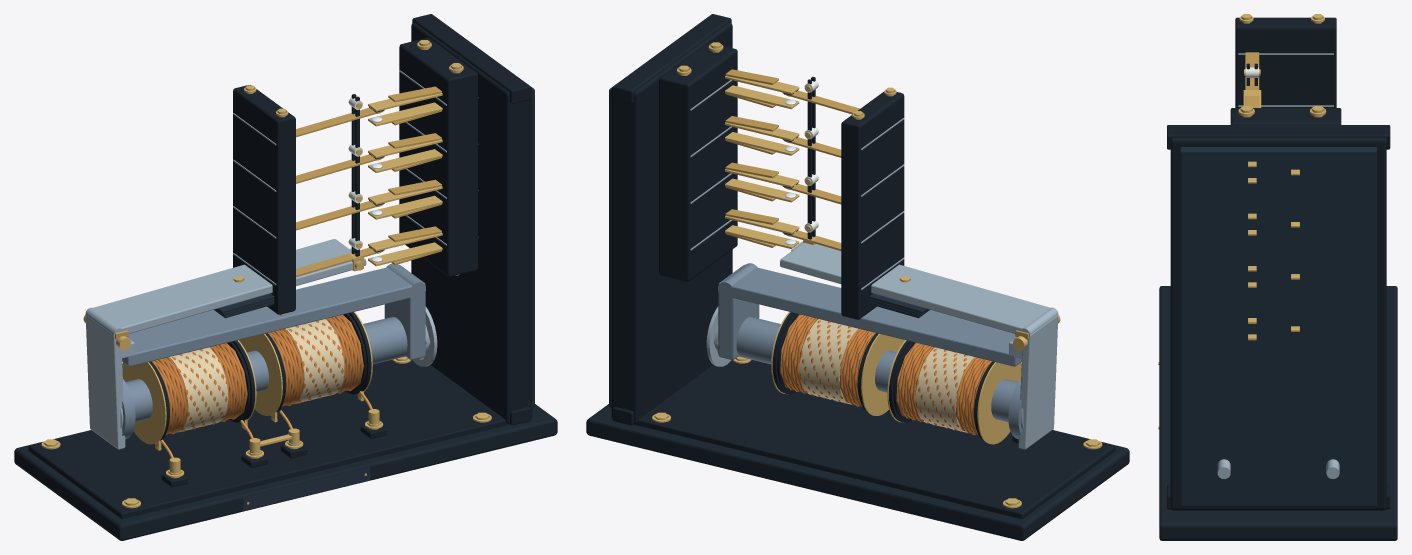
File: JSBXC-850-picked.glb
3 views of the same model, side by side, from view 1: azimuth 30°, elevation 25°; view 2: azimuth 150°, elevation 25°; view 3: azimuth 270°, elevation 25° (orthographic). The views are drawn at different scales.
Visible parts, largest first — view 1: base (×6), contactBlock (×2), coil (×6), armature (×2), yoke (×2), core, back (×4), common (×4); view 2: base (×5), contactBlock (×2), coil (×6), armature (×2), yoke (×2), core, back (×4); view 3: base (×4), contactBlock (×2), common.
Part boxes in pixels (x1,y1,x2,y2): base (×6): [14, 14, 557, 540]; contactBlock (×2): [233, 38, 477, 314]; coil (×6): [122, 314, 363, 444]; armature (×2): [85, 239, 352, 449]; yoke (×2): [122, 264, 425, 366]; core: [125, 317, 407, 422]; back (×4): [368, 102, 442, 266]; common (×4): [296, 107, 383, 276]; base (×5): [586, 14, 1129, 540]; contactBlock (×2): [659, 42, 904, 319]; coil (×6): [780, 314, 1021, 444]; armature (×2): [780, 242, 1058, 449]; yoke (×2): [718, 264, 1021, 366]; core: [736, 317, 1018, 422]; back (×4): [725, 85, 799, 248]; base (×4): [1159, 125, 1397, 540]; contactBlock (×2): [1230, 17, 1341, 124]; common: [1245, 52, 1259, 89].
Bounding box in the file's own units: 6.05 × 4.73 × 2.55.
